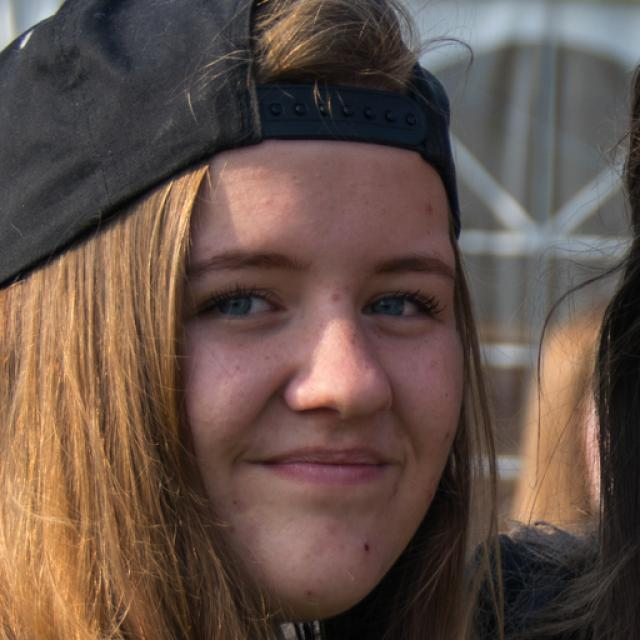happy: (177, 128, 466, 621)
